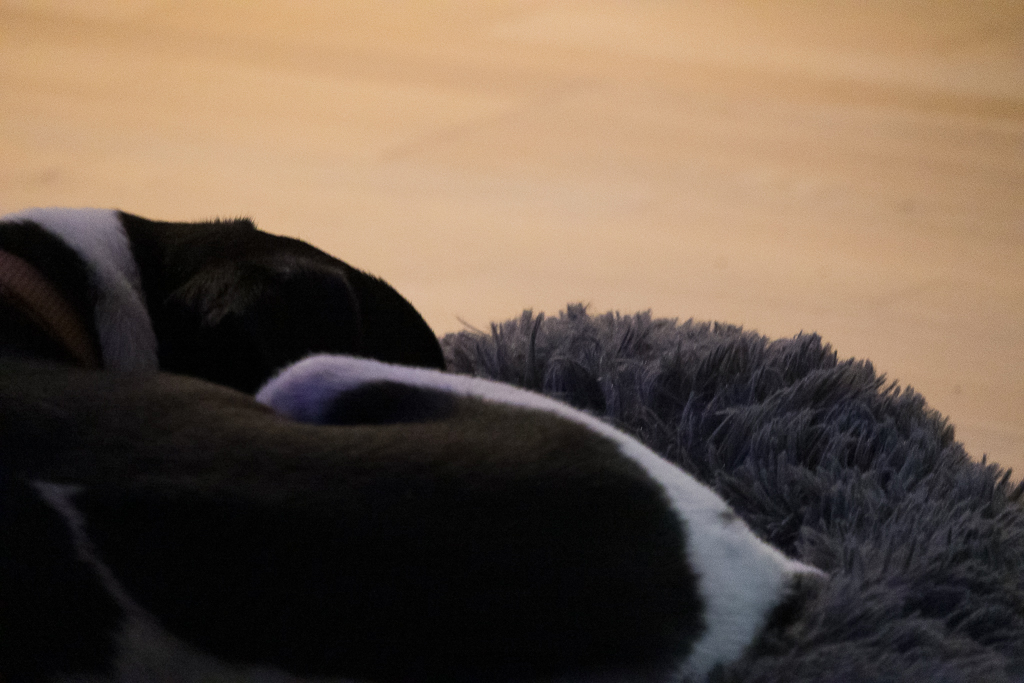Dog: (0, 195, 837, 683)
